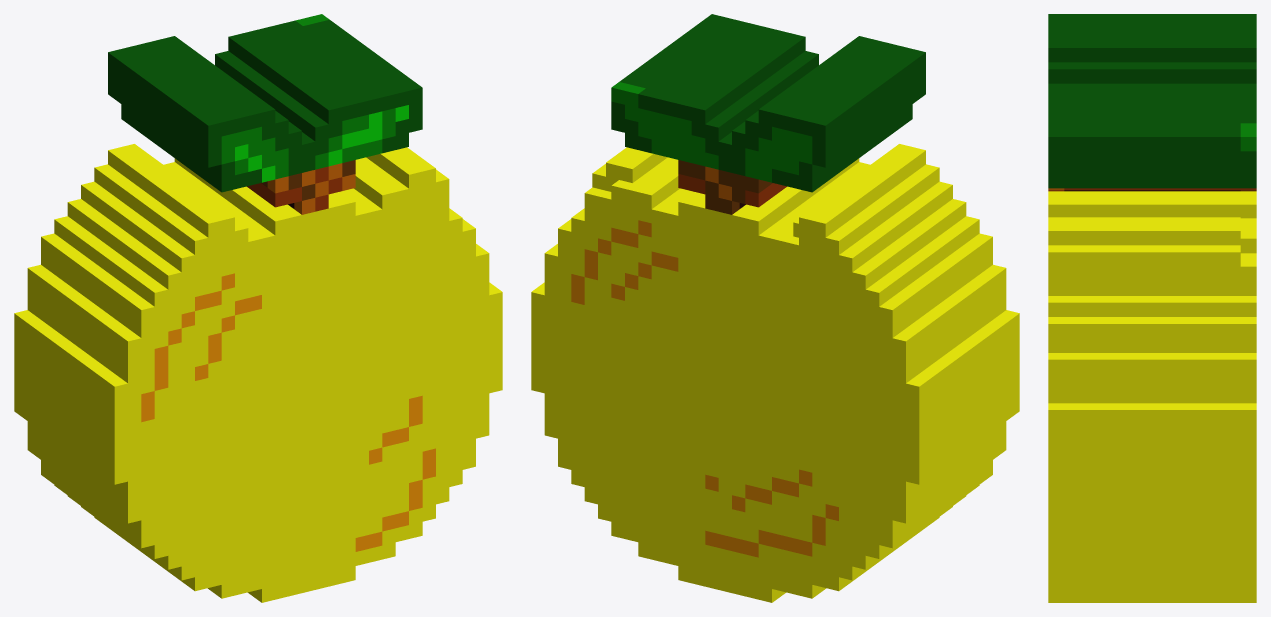
File: GoldenApple.obj
3 views of the same model, side by side, from view 1: azimuth 30°, elevation 25°; view 2: azimuth 150°, elevation 25°; view 3: azimuth 270°, elevation 25° (orthographic). The views are drawn at different scales.
Parts seen in each view (by area): view 1: GoldenApple; view 2: GoldenApple; view 3: GoldenApple.
Part boxes in pixels (x1=…): GoldenApple: x1=14, y1=14, x2=502, y2=602; GoldenApple: x1=531, y1=14, x2=1019, y2=602; GoldenApple: x1=1048, y1=14, x2=1256, y2=602.
Size of the model in its own units: 29 by 35 by 13.
Materials: 1 (1 with a texture image).
